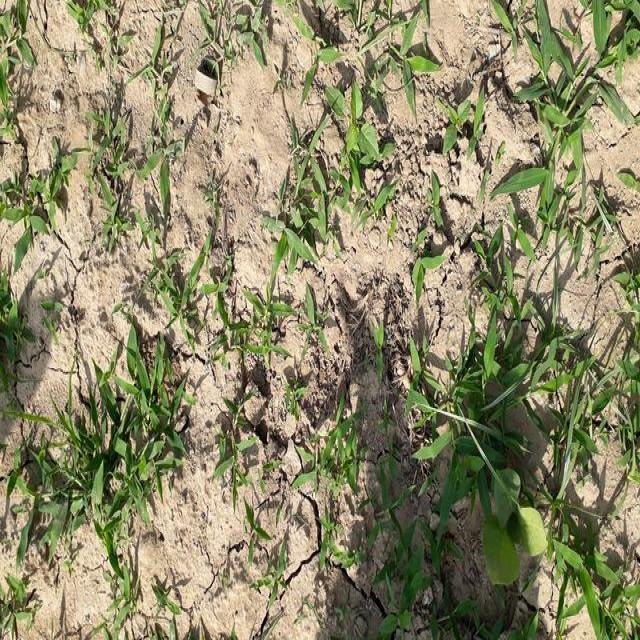weed: (415, 279, 640, 640), (0, 342, 198, 596), (488, 0, 621, 231), (270, 60, 409, 274)
